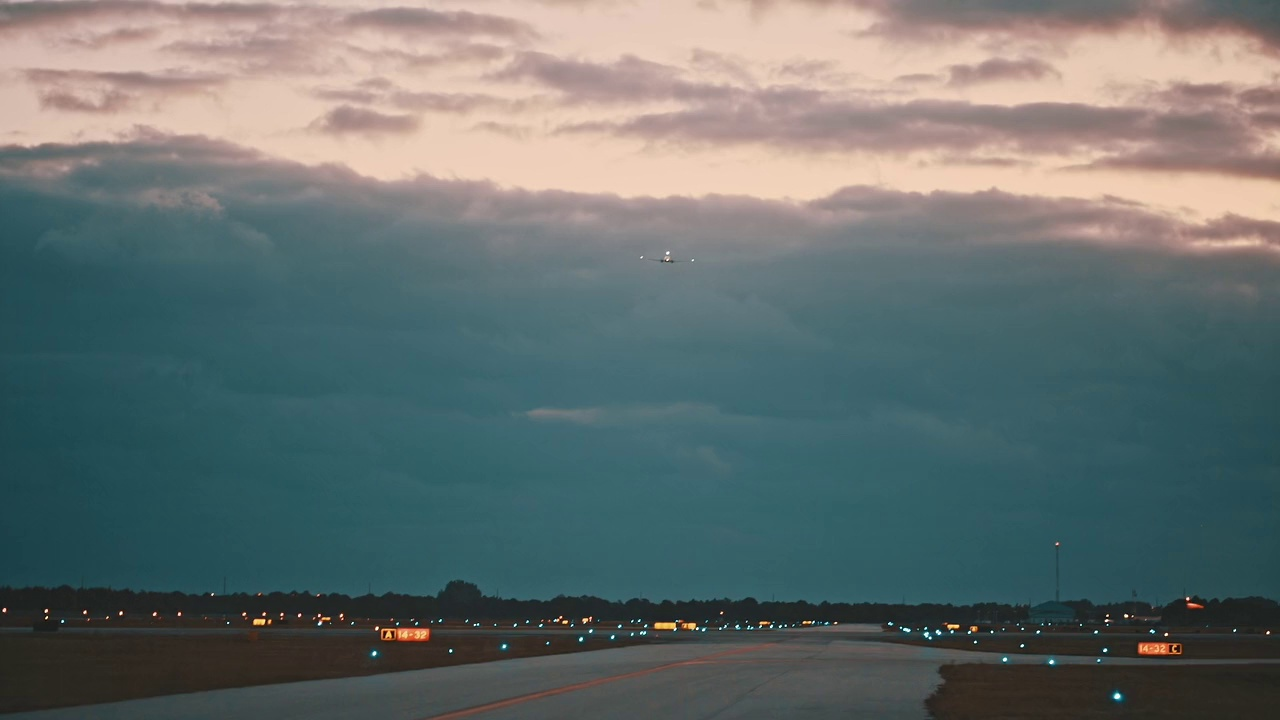plane: (639, 251, 694, 263)
